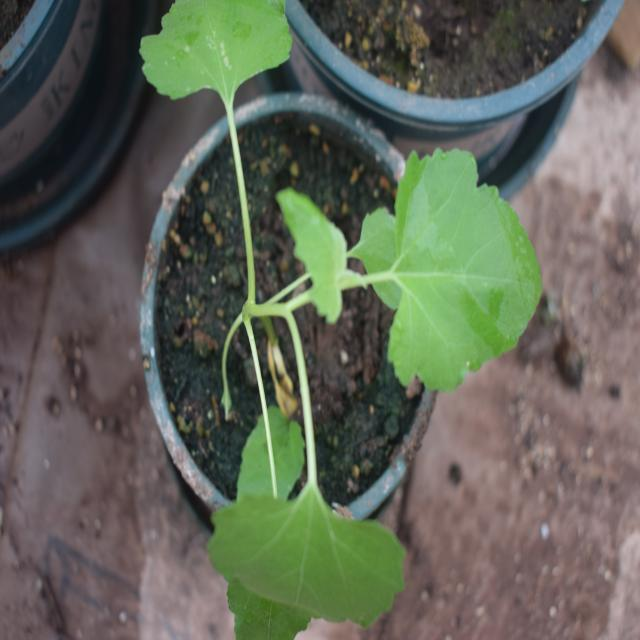cocklebur: (172, 0, 543, 602)
